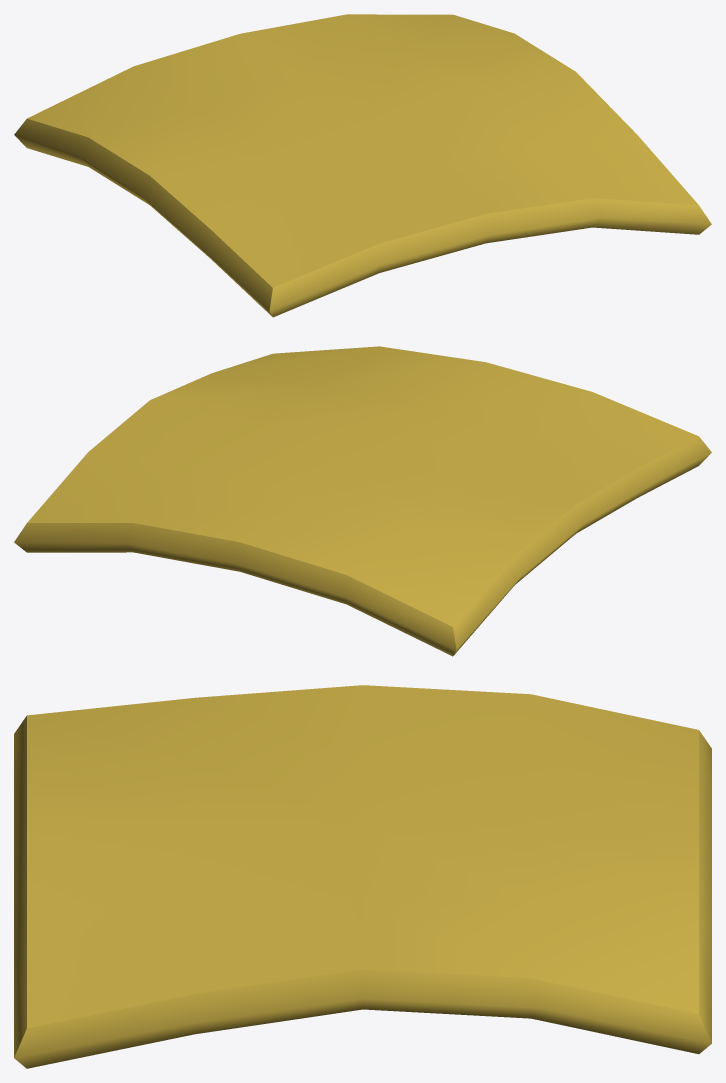
File: M_Food_Cheese_001.fbx
3 renders of one model, top to bottom at view 1: azimuth 30°, elevation 25°; view 2: azimuth 150°, elevation 25°; view 3: azimuth 270°, elevation 25°, orthographic. The views are drawn at different scales.
Parts seen in each view (by area): view 1: Cheese; view 2: Cheese; view 3: Cheese.
Boxes of the visible parts, x1,y1,x2,y2 form: Cheese: [14, 14, 711, 317]; Cheese: [14, 346, 711, 656]; Cheese: [14, 685, 711, 1068].
Bounding box in the file's own units: 60.93 × 9.6 × 60.93.
